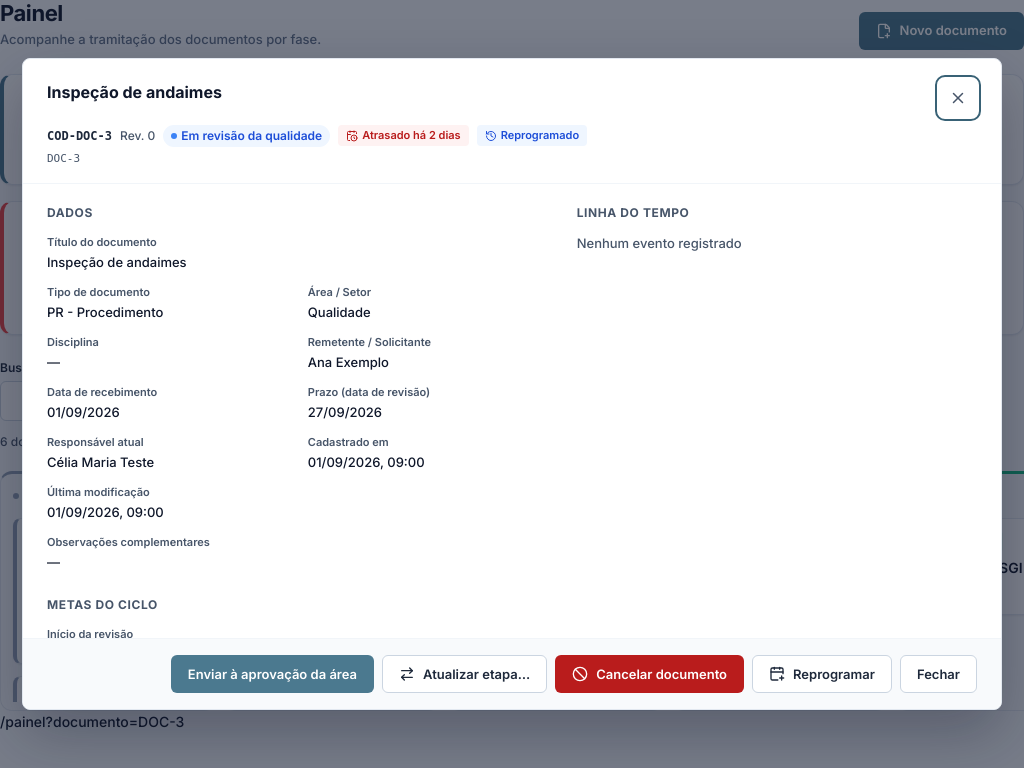
Scenario: TelaPainel: detalhes (F4) › reprogramar (só com prazo vencido) dentro dos detalhes atualiza o cartão do quadro sem recarregar o painel
The width and height of the screenshot is (1024, 768).
Click the button "Reprogramar" at (822, 674), box x1=752 y1=655 x2=892 y2=693
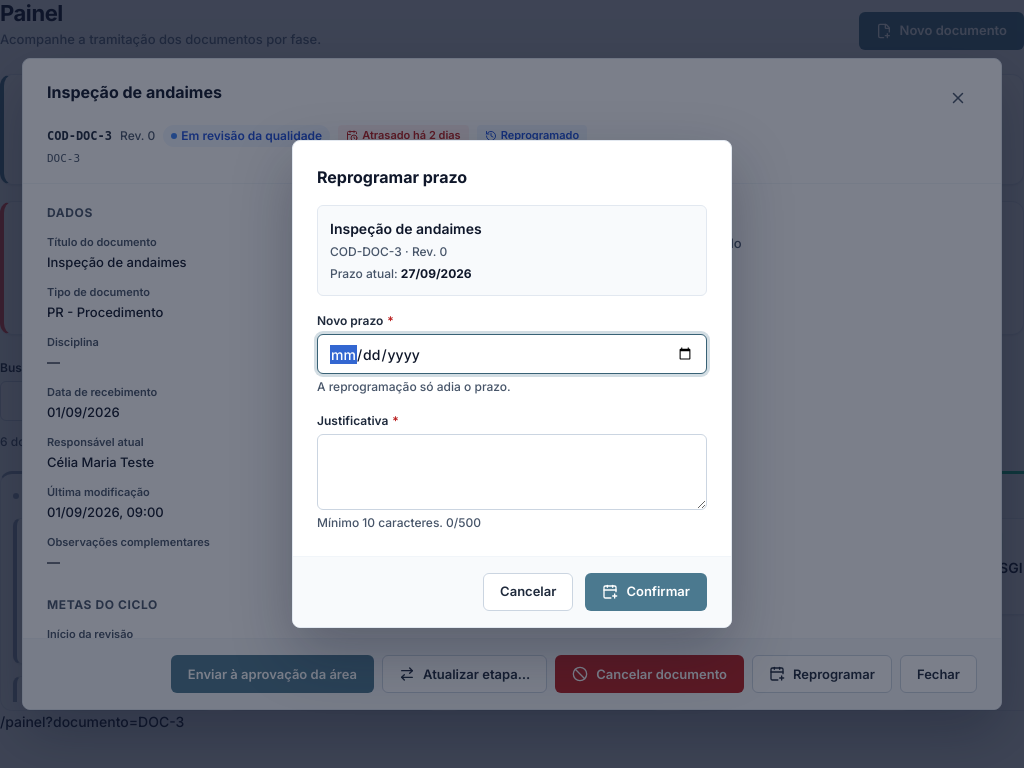
Expected: the dialog "Reprogramar prazo" shows "Prazo atual: 27/09/2026", x1=292 y1=140 x2=732 y2=628
Click the button "Confirmar" at (646, 592), box x1=585 y1=573 x2=707 y2=611
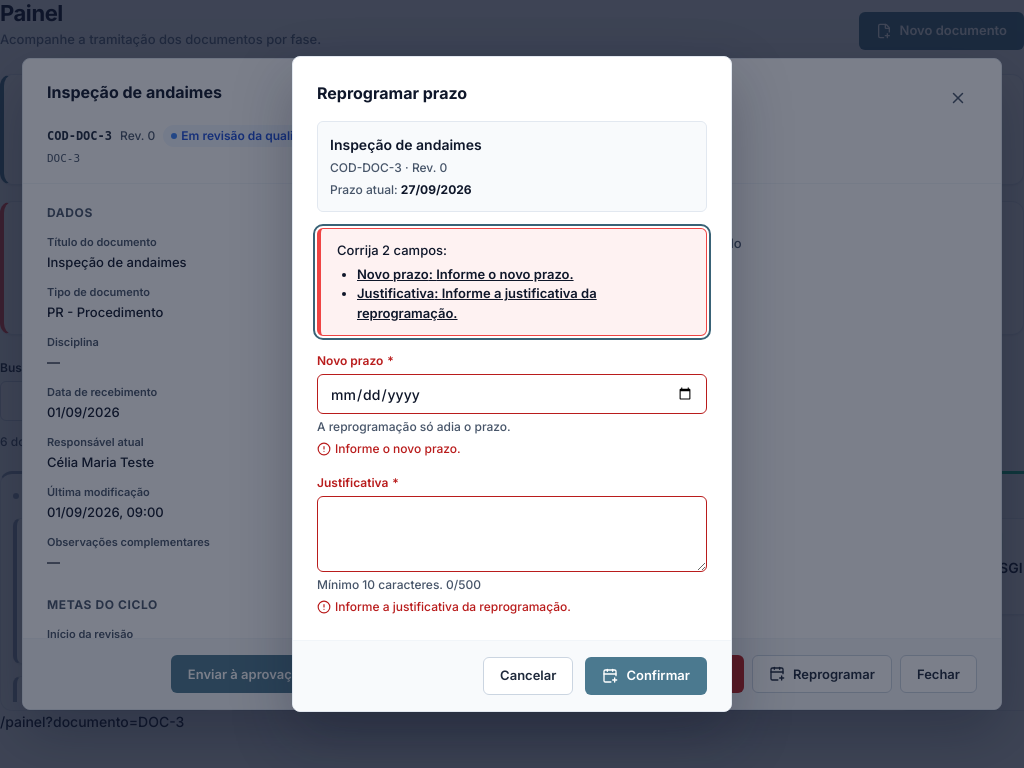
Type "2026-11-30" into the date field labelled "Novo prazo*" at (512, 394), box x1=317 y1=374 x2=707 y2=414
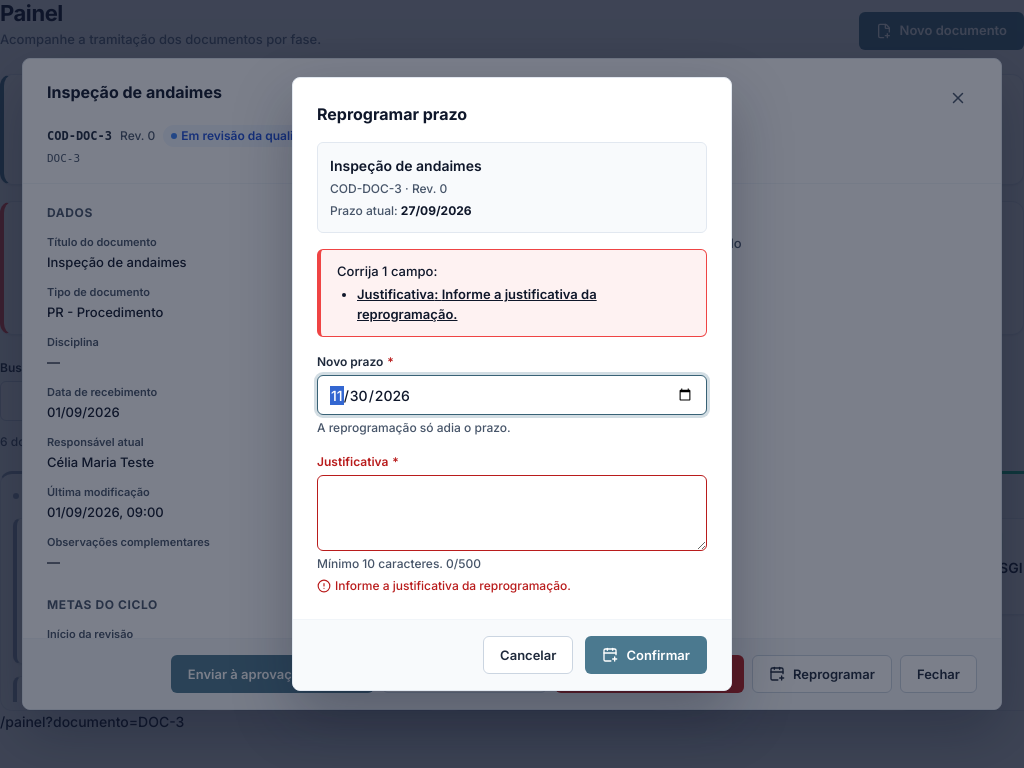
Type "Pedido formal da área." into the text box labelled "Justificativa*" at (512, 513), box x1=317 y1=475 x2=707 y2=551
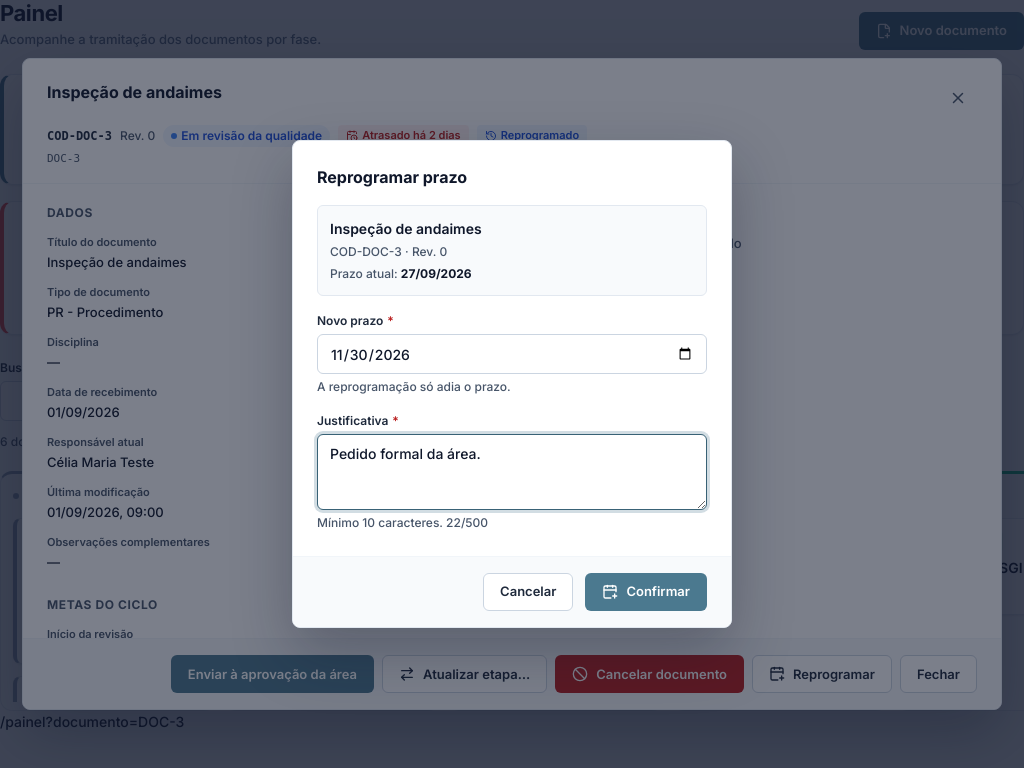
Click the button "Confirmar" at (646, 592), box x1=585 y1=573 x2=707 y2=611
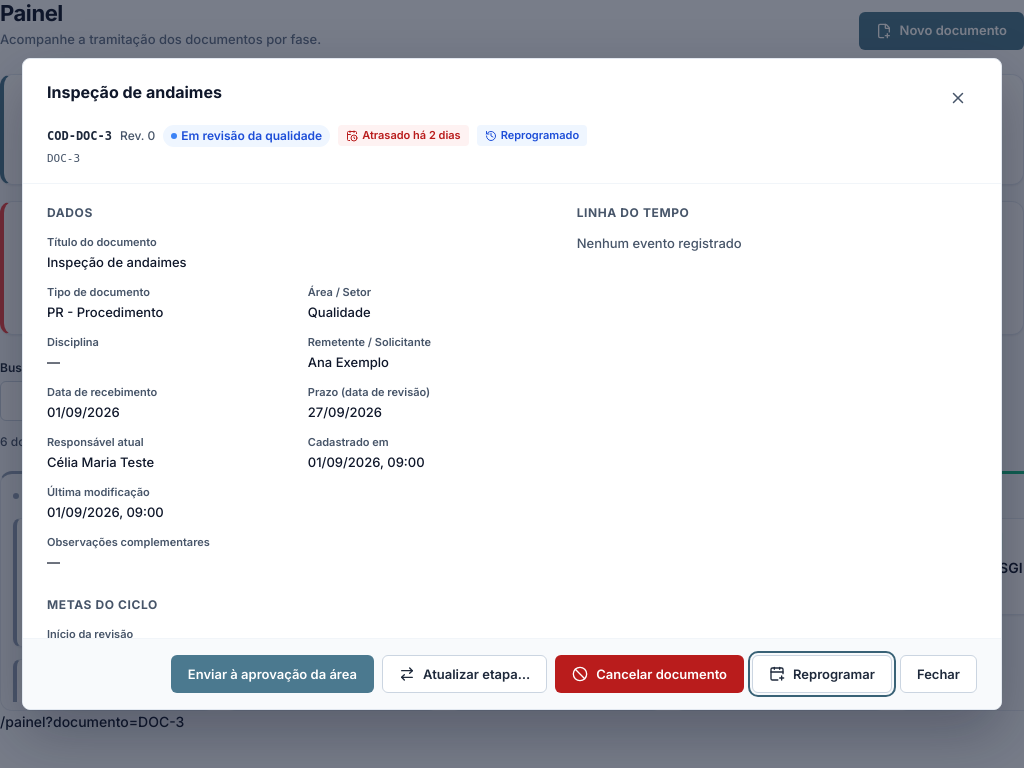
Expected: the text "30/11" is shown, x1=271 y1=638 x2=301 y2=656
